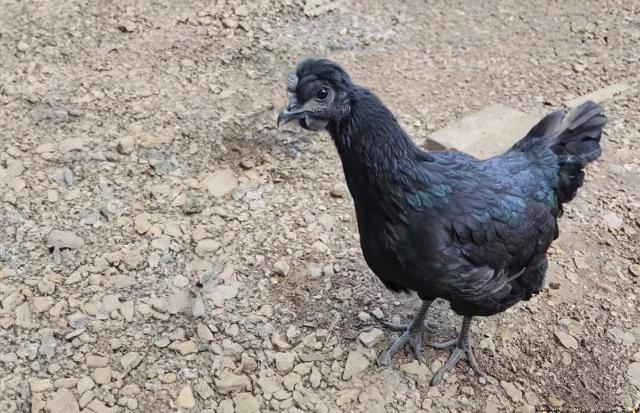Chicken: (277, 56, 607, 386)
